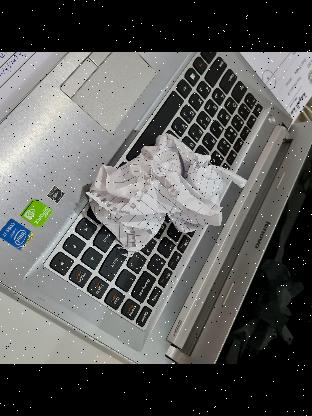Others: (88, 146, 242, 246)
